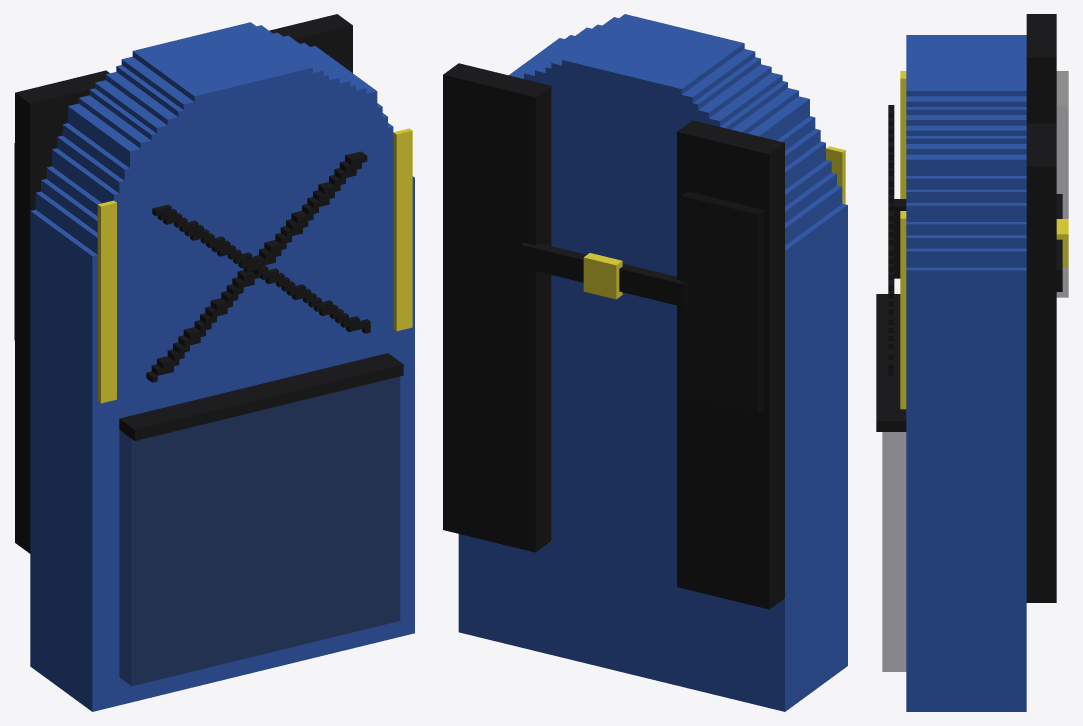
File: runner_bag.glb
The picture shows the model from 3 angles, left to right: view 1: azimuth 30°, elevation 25°; view 2: azimuth 150°, elevation 25°; view 3: azimuth 270°, elevation 25°; orthographic projection. The views are drawn at different scales.
Visible parts, largest first — view 1: runner_bag:compound; view 2: runner_bag:compound; view 3: runner_bag:compound.
Boxes of the visible parts, bbox=[...] form: runner_bag:compound: bbox=[14, 14, 414, 711]; runner_bag:compound: bbox=[443, 14, 847, 711]; runner_bag:compound: bbox=[876, 14, 1068, 711].
Size of the model in its own units: 0.24 by 0.42 by 0.128.
